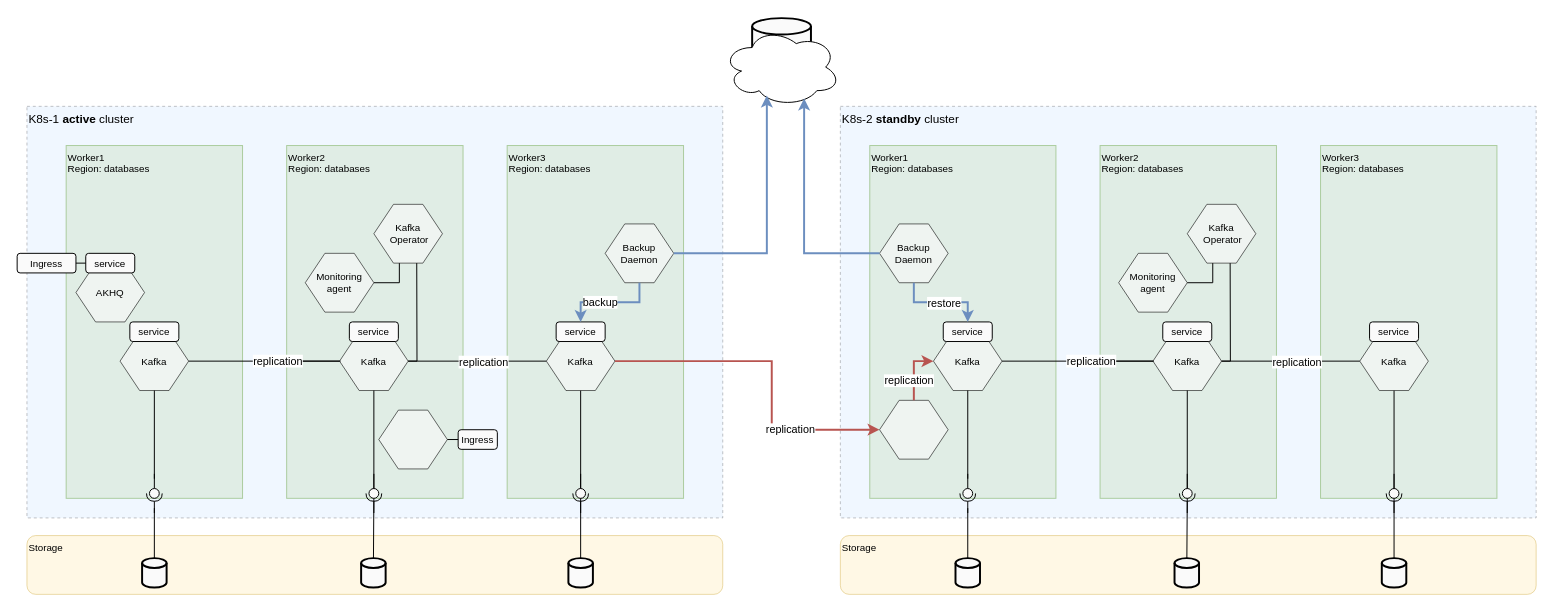
Image size: 1553x612. Some labels were removed from this diagram. Here are the shapes that lost their labels. From the top down, the centre of each, then its label:
At (781,66): "S3 Storage".
At (412,439): "Cruise Control".
At (913,429): "Mirror Maker".
